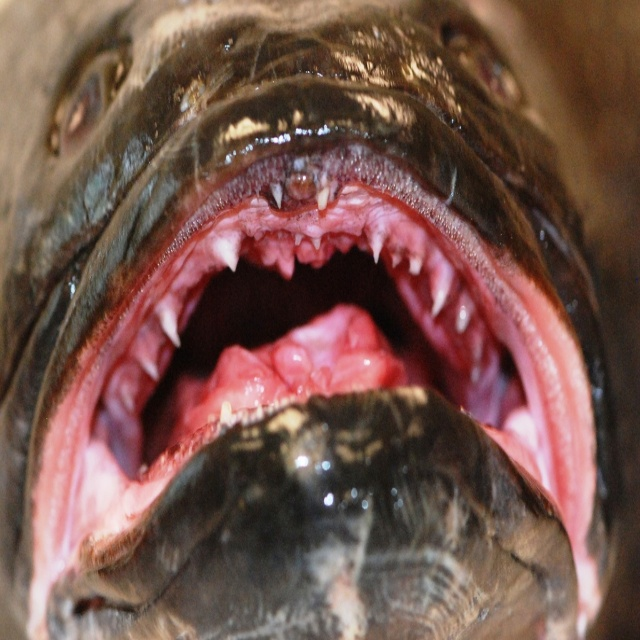Fish: (50, 8, 586, 582)
